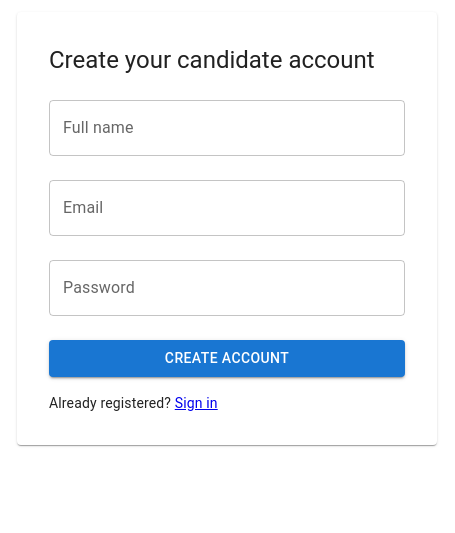
CandidateSignupPage › blocks submission when validation fails
Click the button "Create account": coordinates (227, 359) left=49, top=340, right=405, bottom=377
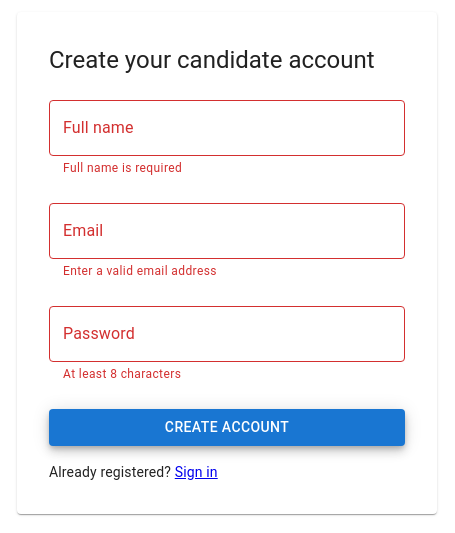
Check: the text "Full name is required" is shown, box left=63, top=161, right=182, bottom=175
